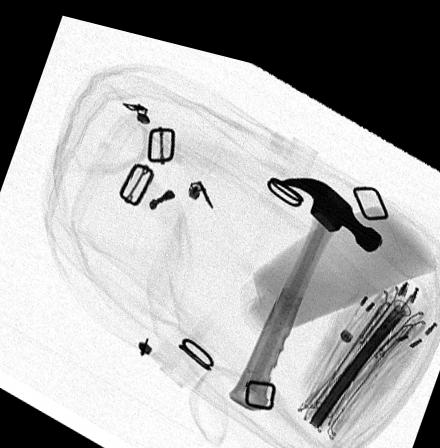Hammer: (227, 161, 382, 398)
